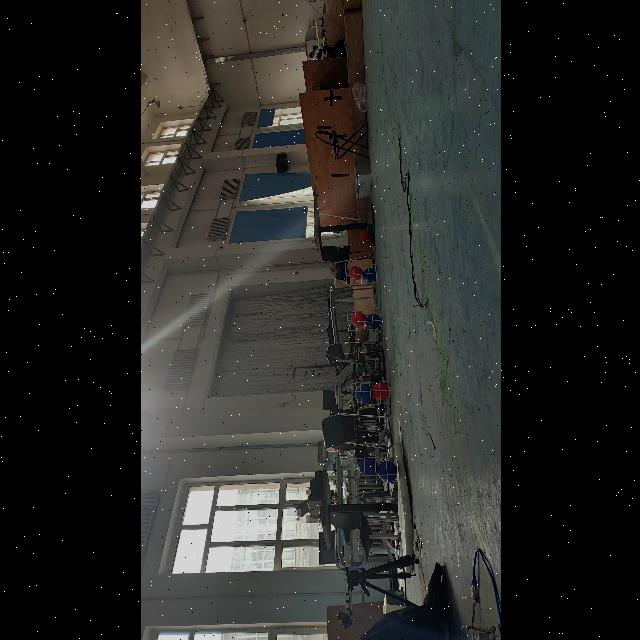B: (377, 462, 398, 482), (358, 459, 377, 478), (355, 386, 373, 402), (365, 314, 381, 328), (362, 270, 374, 282)
R: (370, 382, 388, 400), (350, 311, 364, 327), (348, 266, 362, 280)
S: (350, 455, 402, 485), (348, 378, 392, 408), (344, 308, 384, 332), (343, 264, 379, 286)
